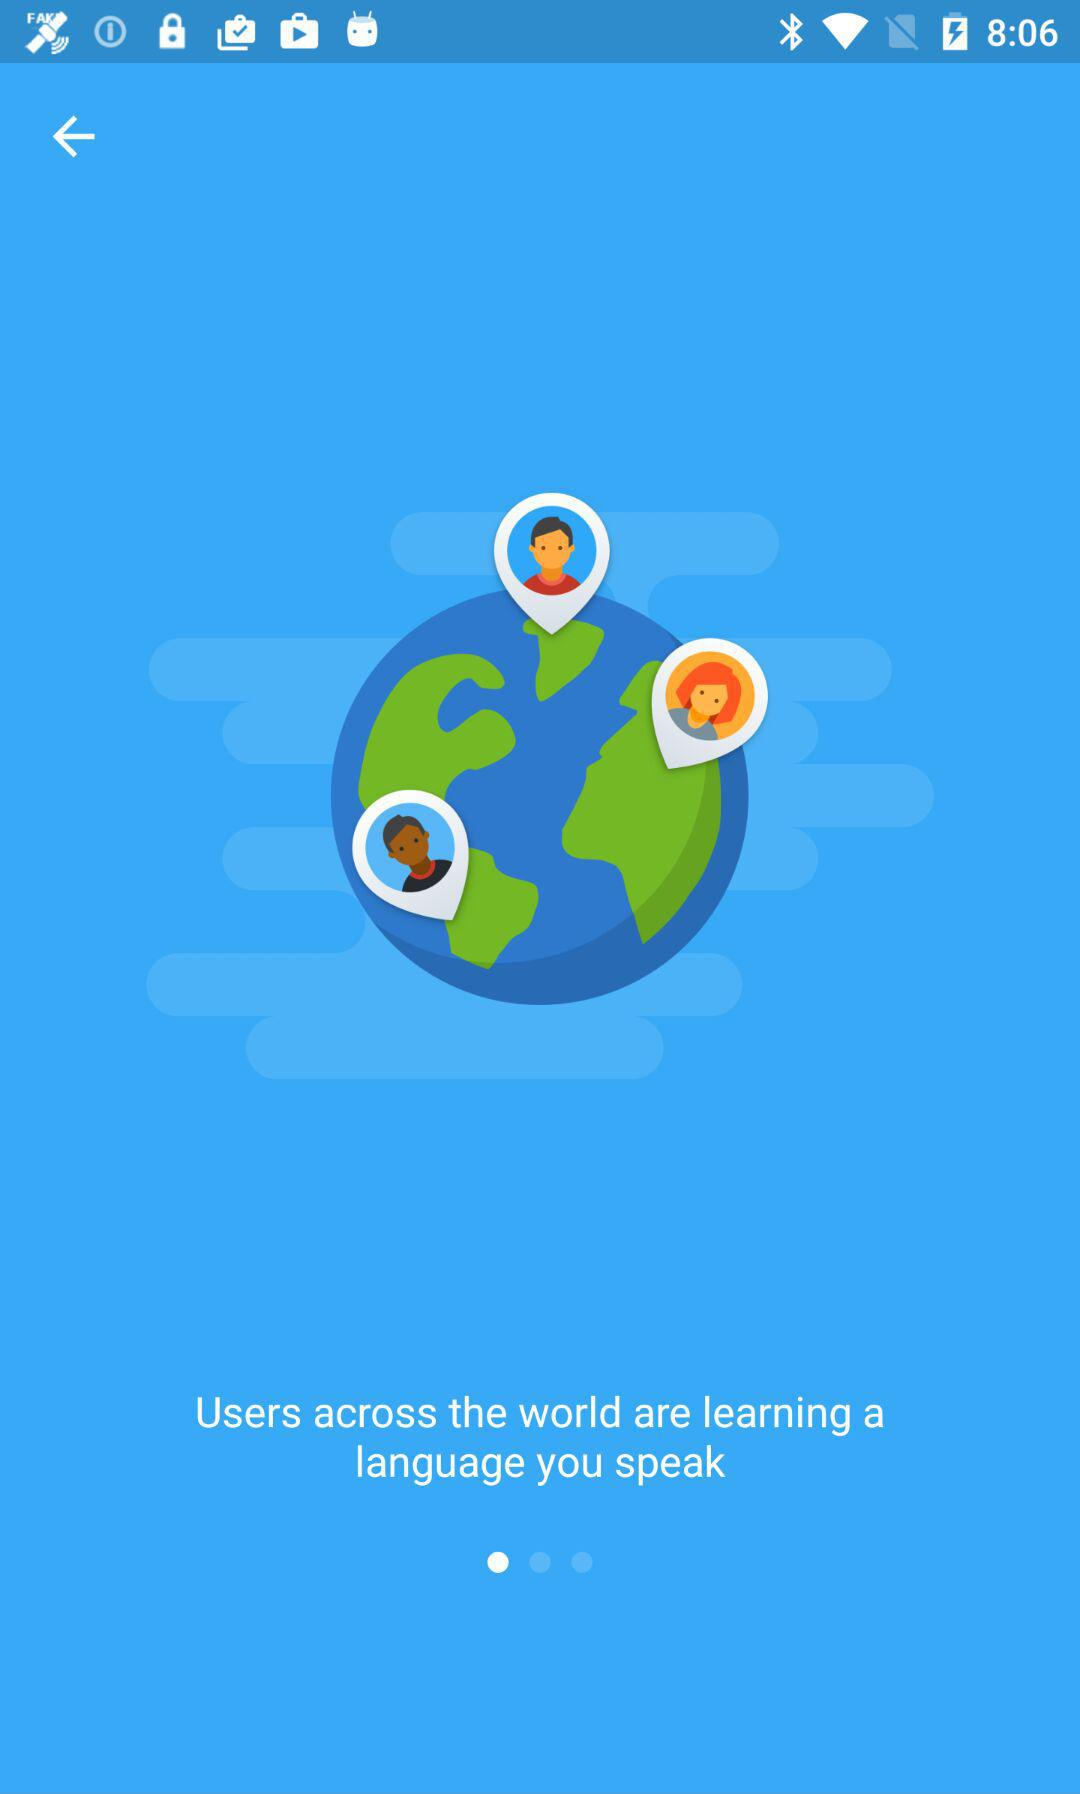Icon: (53, 117, 97, 160)
Image: (147, 493, 937, 1080)
PageIndicator: (486, 1551, 594, 1576)
Text: (197, 1394, 887, 1490)
UpperTaskBar: (1, 1, 1080, 64)
